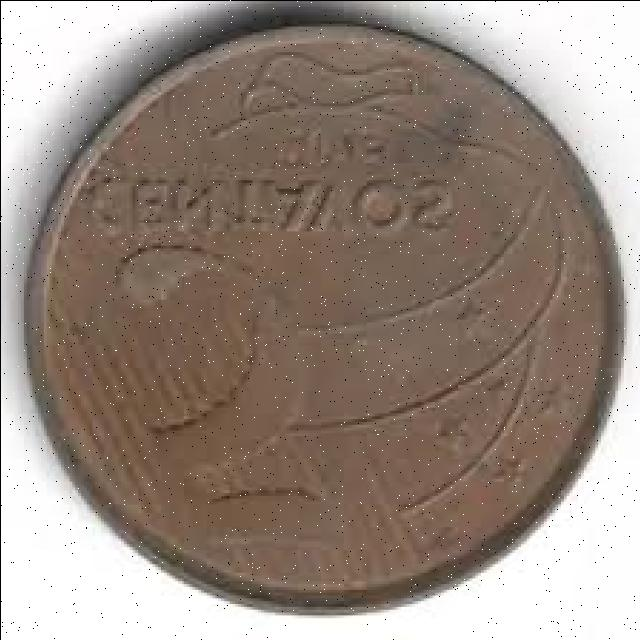5 cent: (26, 18, 623, 616)
